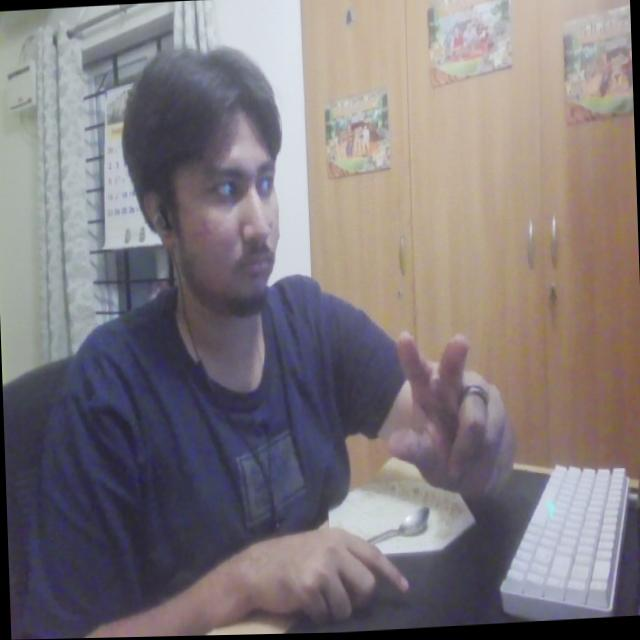no: (377, 321, 518, 503)
